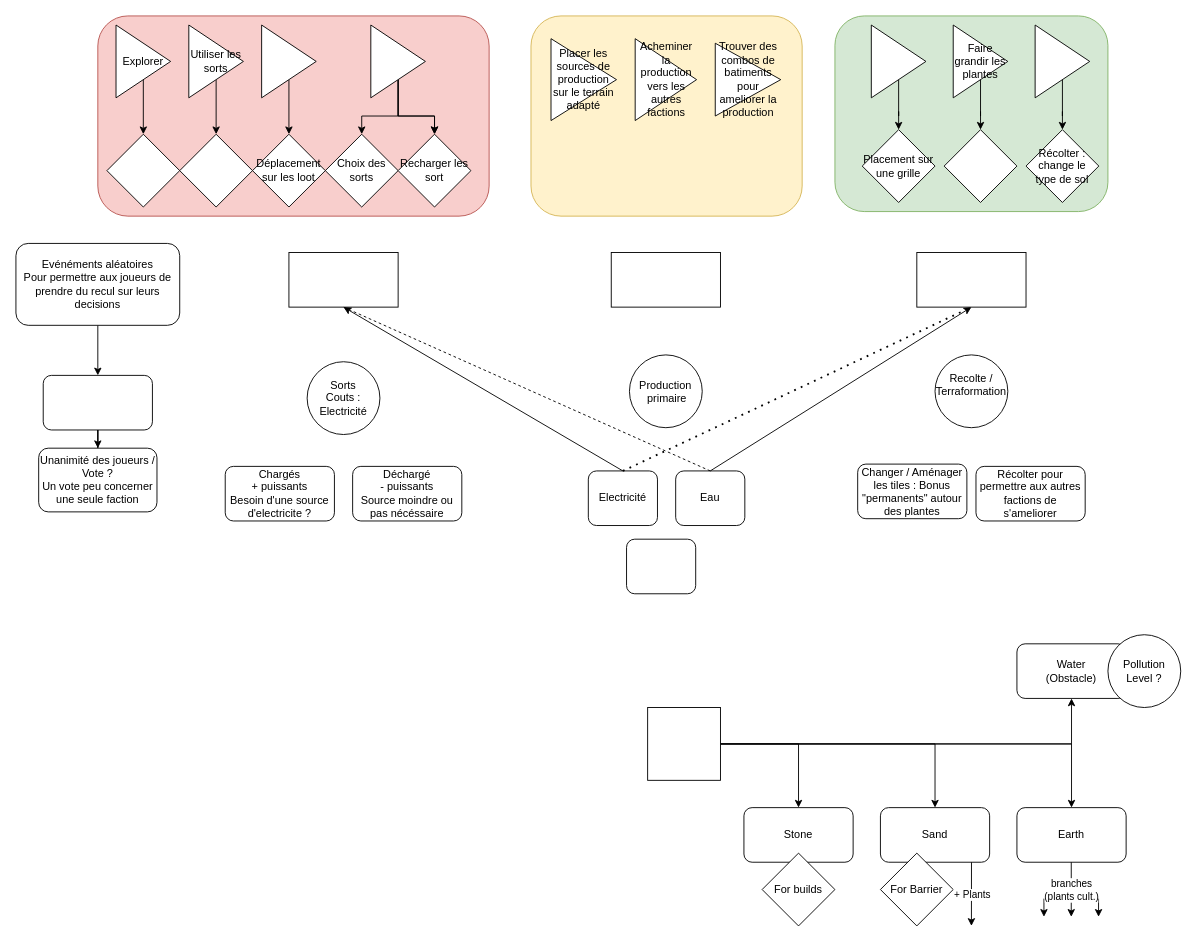
The diagram is 1197 pixels wide and 949 high, and some of its shapes have lost their labels. Each missing label, with the centre of its shape:
Biômes (Tiles): point (683, 743)
Builder: point (665, 279)
Defender: point (343, 279)
Déplacement: point (143, 170)
Dépollution: point (661, 566)
Gardener: point (971, 279)
Irriguer: point (980, 165)
Lancer des sorts: point (216, 170)
Maintenance: point (397, 61)
Placer des plantes: point (898, 61)
Recolter les loots: point (288, 61)
Récolter les plantes ou Garder les bonus: point (1062, 61)
Réunion "de crise" ou une decision doit être prise a la fin de la reunion: point (97, 402)
